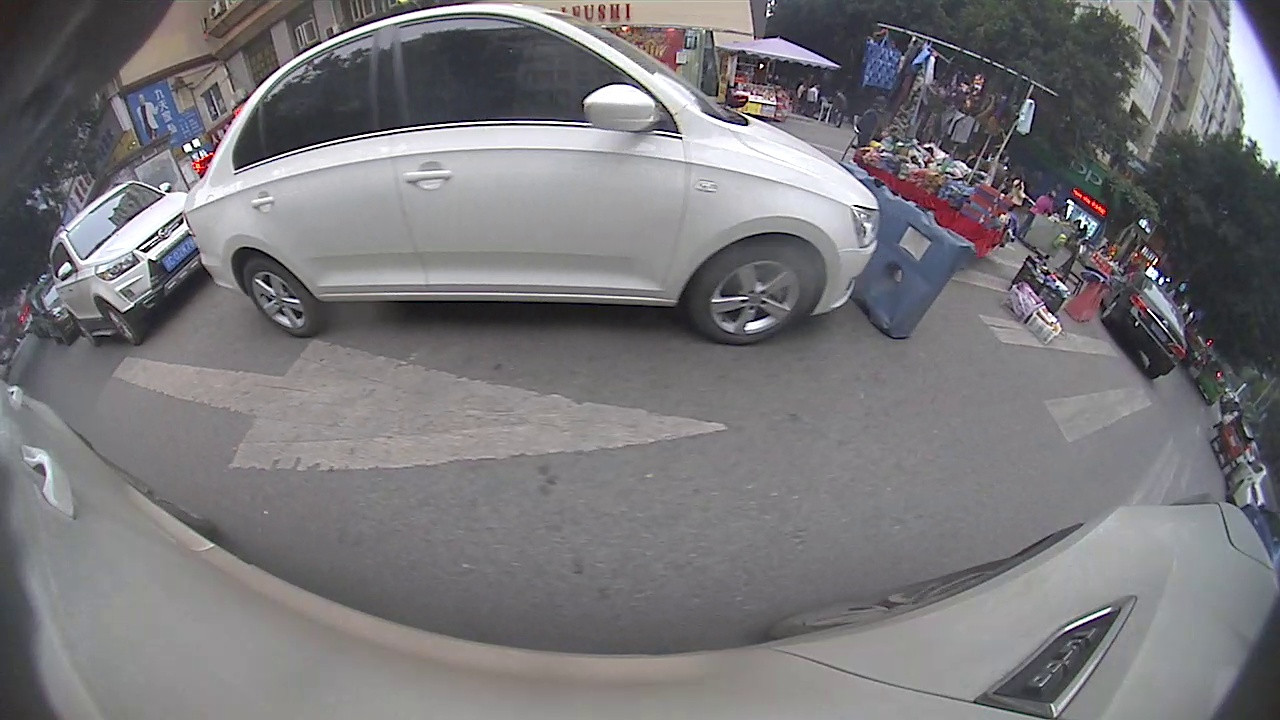car: (182, 4, 884, 347), (47, 178, 204, 349), (1098, 270, 1189, 380)
front: (687, 238, 826, 347), (100, 301, 141, 348)
rear: (240, 252, 317, 338)
